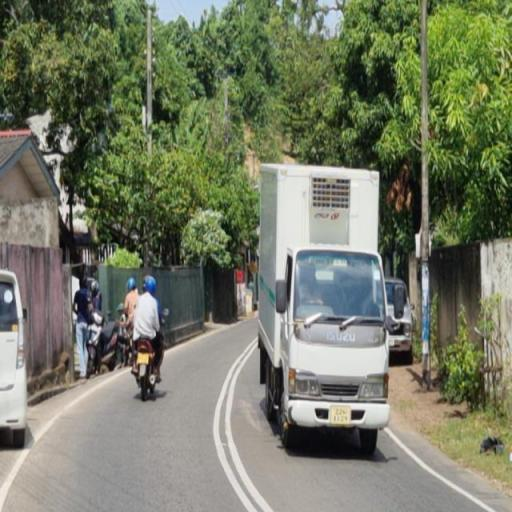double_white_line: (213, 335, 267, 511)
